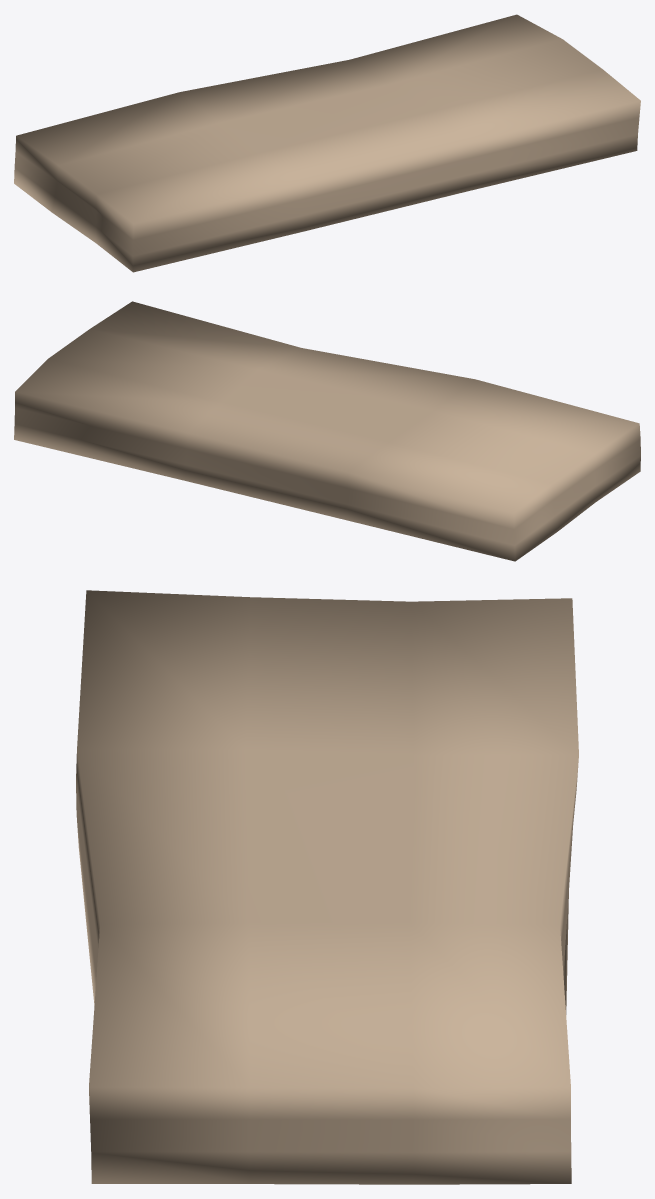
Rendered from plank.glb.
The picture shows the model from 3 angles, top to bottom: view 1: azimuth 30°, elevation 25°; view 2: azimuth 150°, elevation 25°; view 3: azimuth 270°, elevation 25°; orthographic projection. The views are drawn at different scales.
Visible parts, largest first — view 1: plank; view 2: plank; view 3: plank.
Part boxes in pixels (bbox=[...]): plank: bbox=[14, 14, 640, 272]; plank: bbox=[14, 301, 640, 561]; plank: bbox=[76, 590, 578, 1184].
Size of the model in its own units: 2.43 by 0.2408 by 1.03.
